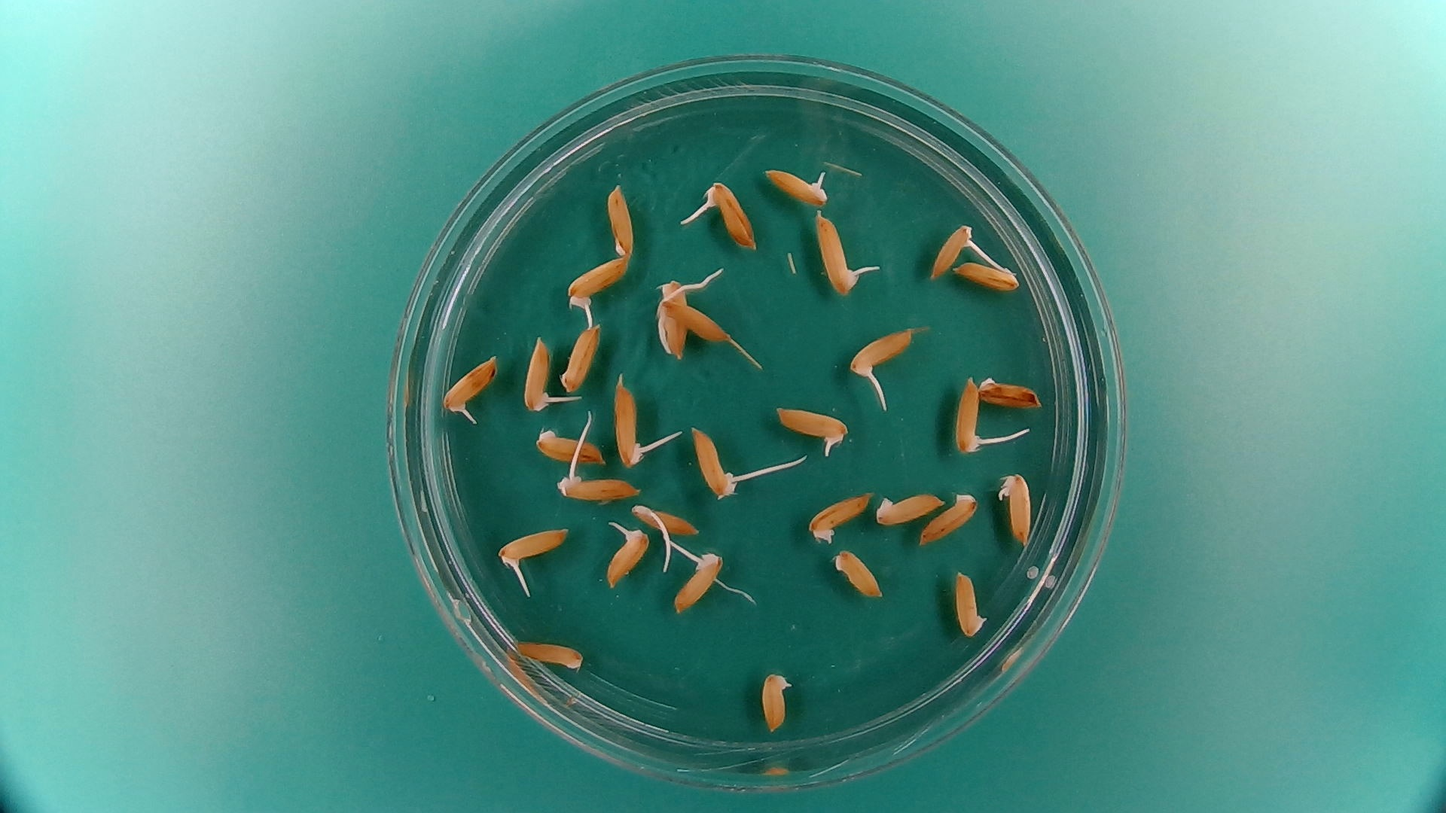no: (805, 488, 873, 542), (918, 487, 979, 547), (559, 319, 605, 395), (532, 423, 608, 465), (831, 547, 886, 601), (665, 303, 732, 346), (872, 487, 945, 526), (953, 567, 990, 641), (975, 374, 1045, 413), (513, 636, 585, 673), (604, 181, 637, 259), (954, 257, 1023, 294)
yes: (812, 209, 868, 298), (696, 177, 761, 251), (563, 253, 632, 321), (438, 352, 502, 425), (844, 323, 919, 383), (770, 402, 853, 456), (689, 423, 743, 501), (670, 544, 725, 615), (612, 370, 651, 464), (554, 464, 645, 504), (602, 519, 651, 590), (654, 278, 693, 364), (498, 523, 572, 568), (522, 333, 562, 414), (926, 219, 978, 281), (953, 371, 991, 454), (997, 467, 1036, 546), (761, 163, 831, 207), (629, 501, 701, 538), (760, 668, 794, 734)
